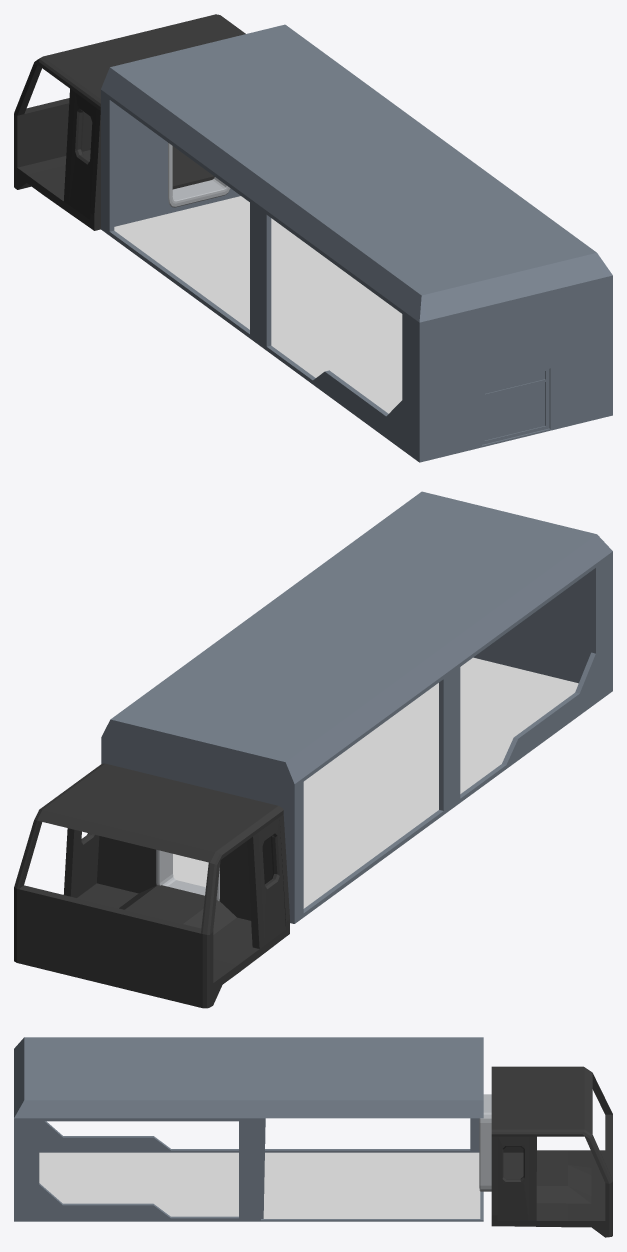
File: BodyFix.fbx
3 views of the same model, one above another, from view 1: azimuth 30°, elevation 25°; view 2: azimuth 150°, elevation 25°; view 3: azimuth 270°, elevation 25° (orthographic). The views are drawn at different scales.
Parts seen in each view (by area): view 1: LivingCabin.002, CockPitFrame, Connection; view 2: LivingCabin.002, CockPitFrame, Connection; view 3: LivingCabin.002, CockPitFrame, Connection.
Part boxes in pixels (box(x1,y1,x2,y2)): LivingCabin.002: box(101, 24, 612, 462); CockPitFrame: box(14, 14, 245, 230); Connection: box(168, 143, 230, 207); LivingCabin.002: box(101, 491, 612, 923); CockPitFrame: box(14, 763, 289, 1008); Connection: box(156, 850, 219, 900); LivingCabin.002: box(14, 1037, 483, 1221); CockPitFrame: box(491, 1066, 612, 1237); Connection: box(479, 1094, 491, 1191).
Bounding box in the file's own units: 419 × 369 × 1503.
